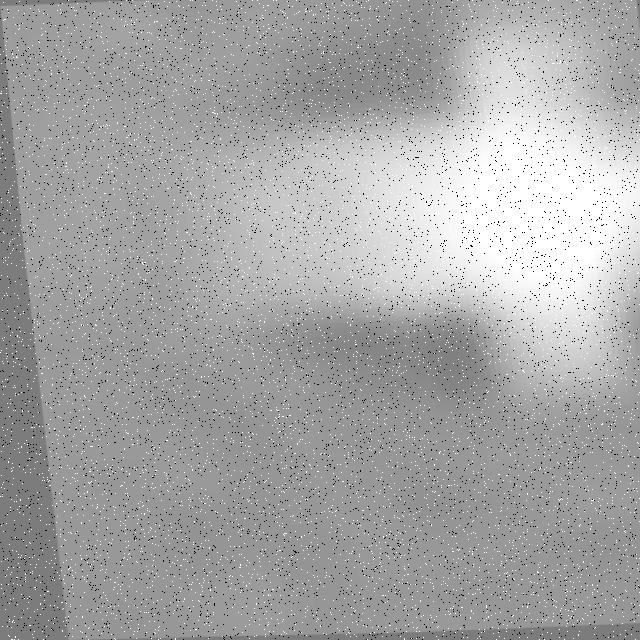person: (197, 50, 640, 355)
